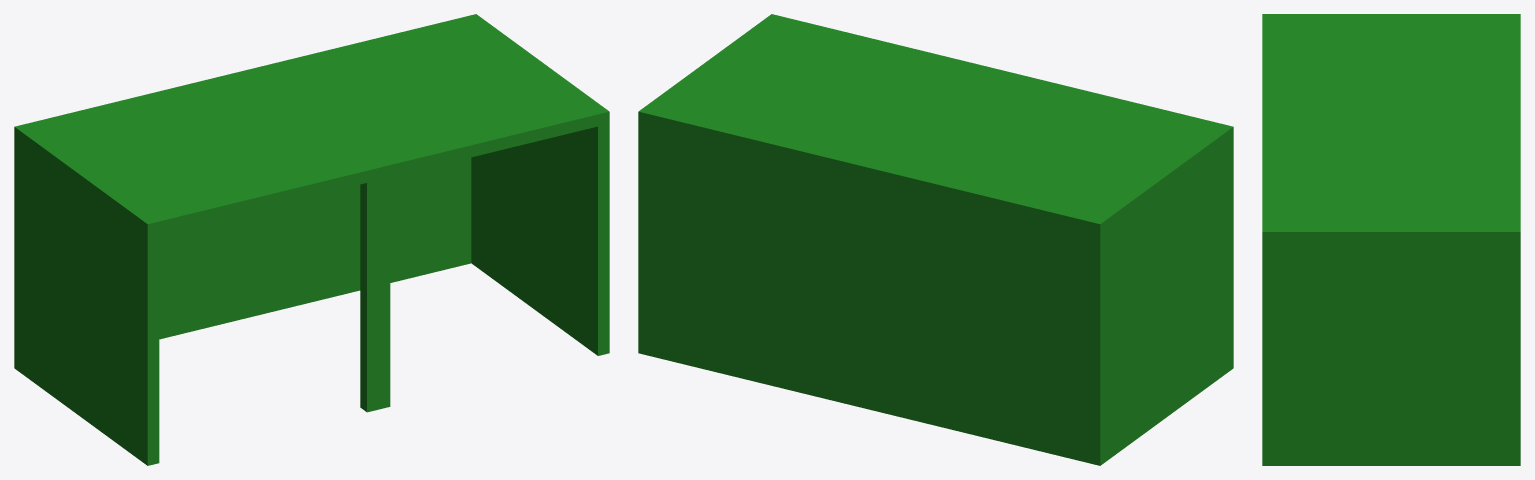
The model's file is Puzzle_002_Elevator_Shaft_Top.fbx.
3 views of the same model, side by side, from view 1: azimuth 30°, elevation 25°; view 2: azimuth 150°, elevation 25°; view 3: azimuth 270°, elevation 25° (orthographic). The views are drawn at different scales.
Visible parts, largest first — view 1: Puzzle_002_Elevator_Shaft_Top; view 2: Puzzle_002_Elevator_Shaft_Top; view 3: Puzzle_002_Elevator_Shaft_Top.
Part boxes in pixels (left/top/right/bottom): Puzzle_002_Elevator_Shaft_Top: left=14, top=14, right=609, bottom=465; Puzzle_002_Elevator_Shaft_Top: left=638, top=14, right=1233, bottom=465; Puzzle_002_Elevator_Shaft_Top: left=1262, top=14, right=1520, bottom=465.
Size of the model in its own units: 800 by 400 by 400.
